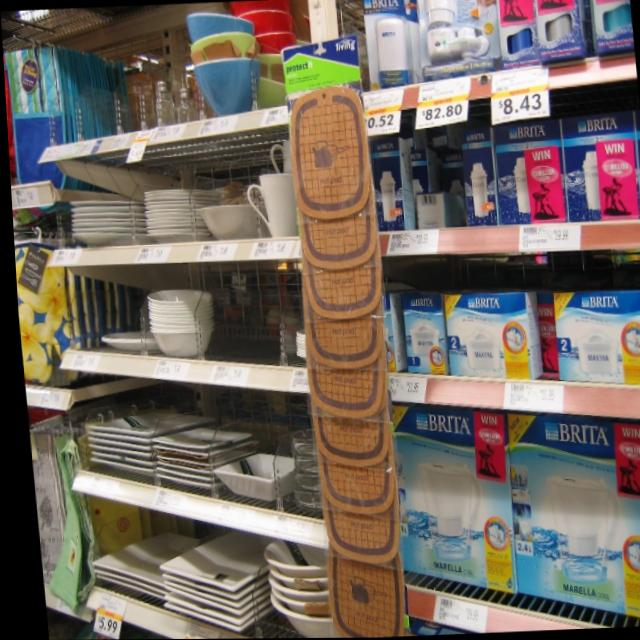q220: (499, 418, 640, 628), (388, 403, 510, 595), (546, 281, 640, 391), (438, 282, 534, 388)
